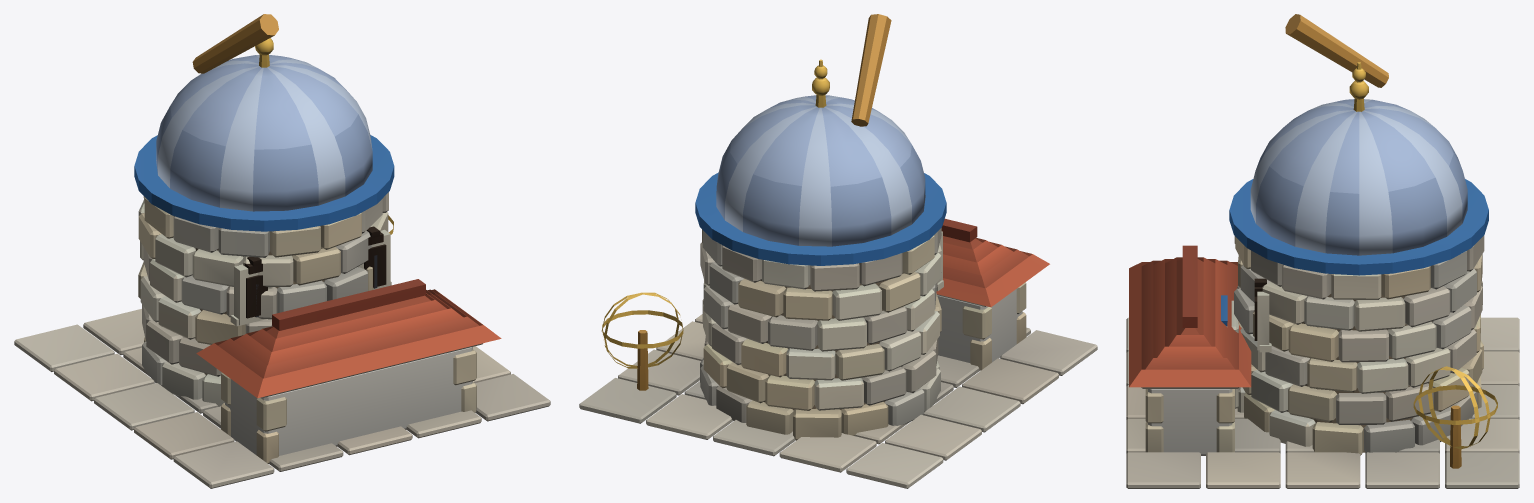
File: b_science.glb
The picture shows the model from 3 angles, left to right: view 1: azimuth 30°, elevation 25°; view 2: azimuth 150°, elevation 25°; view 3: azimuth 270°, elevation 25°; orthographic projection. The views are drawn at different scales.
Parts seen in each view (by area): view 1: b_science, L2, L3; view 2: b_science, L2, L3; view 3: b_science, L2, L3.
Part boxes in pixels (x1,y1,x2,y2): b_science: (14, 38, 550, 488); L2: (196, 279, 501, 463); L3: (192, 14, 393, 234); b_science: (579, 59, 1097, 488); L2: (936, 218, 1049, 370); L3: (601, 14, 891, 390); b_science: (1126, 62, 1519, 488); L2: (1129, 245, 1251, 455); L3: (1285, 14, 1497, 468).
Bounding box in the file's own units: 0.656 × 0.69 × 0.652.
